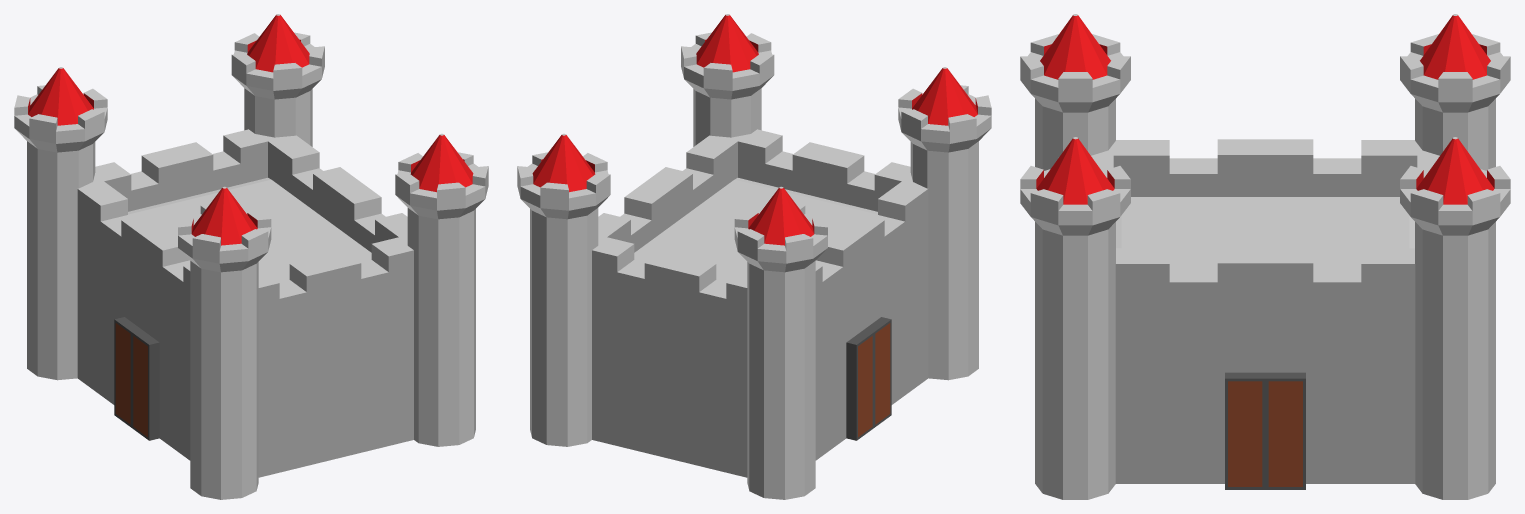
Rendered from Castle.fbx.
The picture shows the model from 3 angles, left to right: view 1: azimuth 30°, elevation 25°; view 2: azimuth 150°, elevation 25°; view 3: azimuth 270°, elevation 25°; orthographic projection. The views are drawn at different scales.
Parts seen in each view (by area): view 1: Castle; view 2: Castle; view 3: Castle.
Boxes of the visible parts, x1,y1,x2,y2 form: Castle: [14, 14, 488, 499]; Castle: [517, 14, 991, 499]; Castle: [1020, 14, 1510, 499].
Size of the model in its own units: 977 by 940 by 1209.
